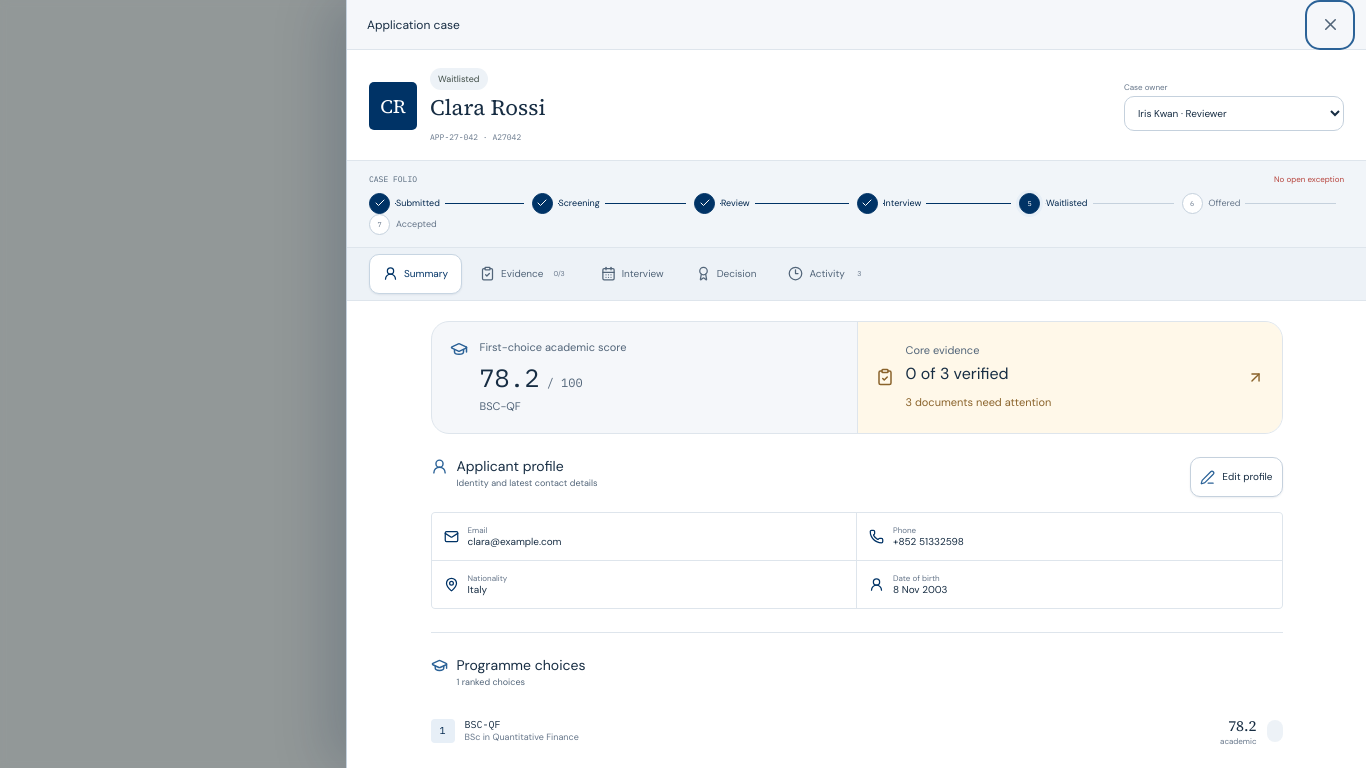
application activity presentation › uses a structured timeline and omits duplicate HKUST branding from the case header
Check: the text "Application case" is shown, box left=367, top=16, right=460, bottom=32
Click the tab "Activity 3" at (828, 274), box left=774, top=254, right=882, bottom=294
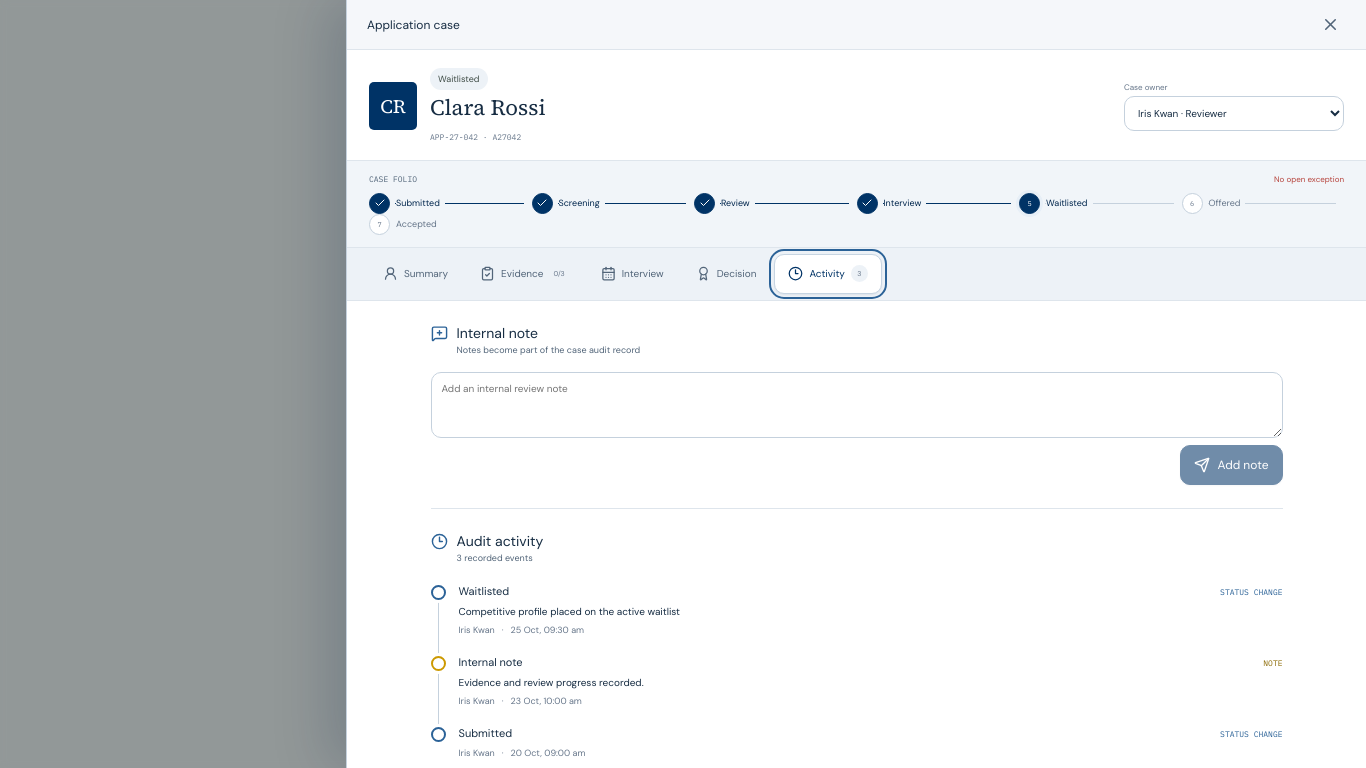
Check: the text "Internal note" is shown, box left=458, top=655, right=523, bottom=671
Check: the text "Status change" is shown 2 times, box left=1220, top=587, right=1282, bottom=599; left=1220, top=729, right=1282, bottom=740
